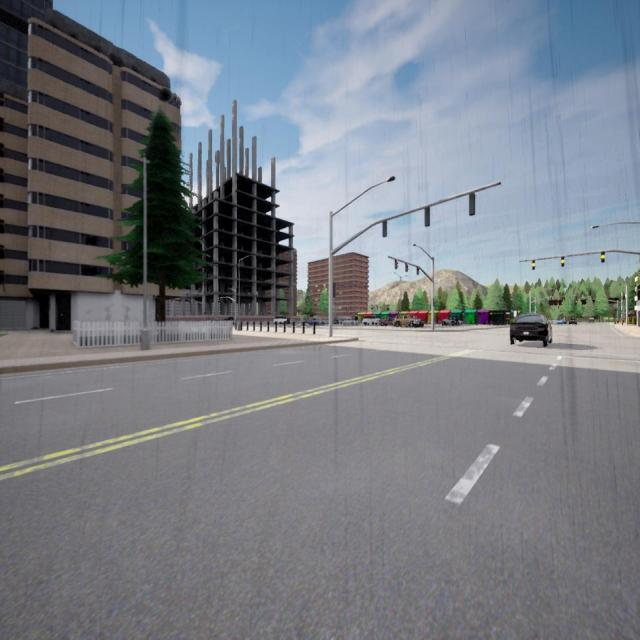Vehicle: (510, 314, 552, 346), (394, 314, 412, 327), (362, 318, 380, 326), (442, 316, 457, 325), (412, 316, 424, 327), (308, 317, 324, 325), (343, 317, 357, 326), (381, 317, 394, 326), (274, 316, 287, 324), (324, 318, 338, 324), (225, 317, 234, 325), (569, 318, 577, 324), (557, 320, 567, 324), (590, 317, 594, 323)
traffic_light: (470, 194, 476, 215), (425, 208, 430, 226), (382, 221, 387, 236), (332, 283, 336, 297), (601, 252, 605, 263), (405, 262, 408, 272), (532, 260, 535, 270), (561, 256, 564, 266), (395, 260, 398, 268), (416, 266, 419, 274), (433, 298, 435, 305), (586, 300, 588, 303), (576, 300, 577, 303), (599, 300, 600, 302)
